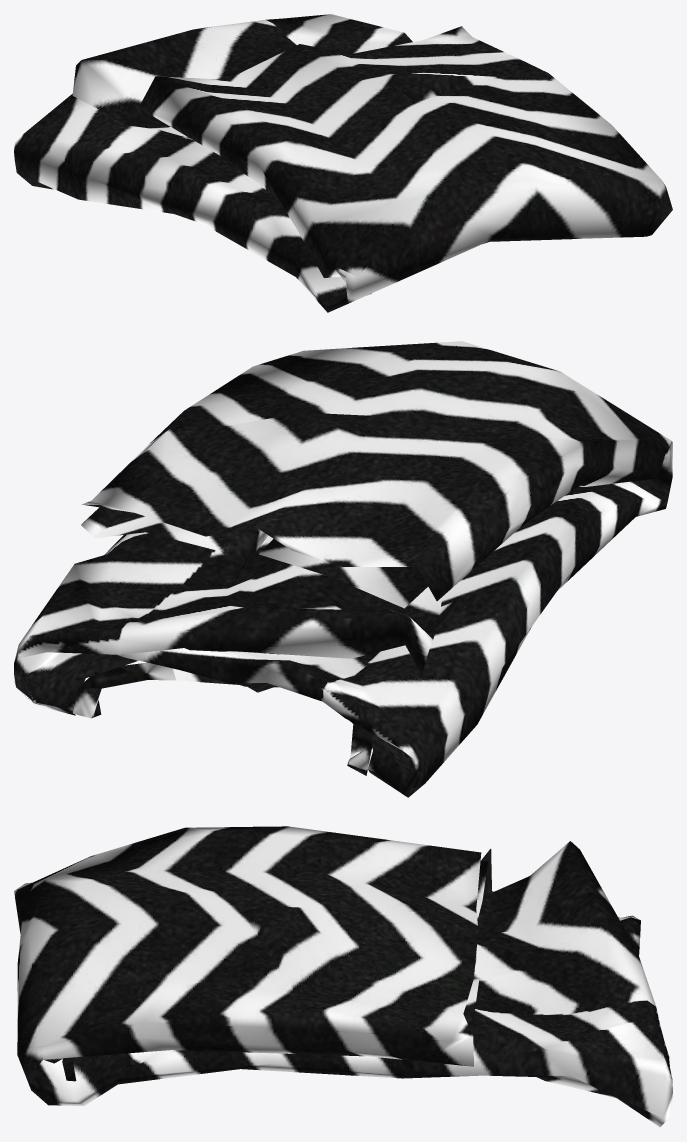
The model's file is hvfold_cloth4553.glb.
The picture shows the model from 3 angles, top to bottom: view 1: azimuth 30°, elevation 25°; view 2: azimuth 150°, elevation 25°; view 3: azimuth 270°, elevation 25°; orthographic projection. The views are drawn at different scales.
Parts seen in each view (by area): view 1: BP_cloth4553; view 2: BP_cloth4553; view 3: BP_cloth4553.
Boxes of the visible parts, x1,y1,x2,y2 form: BP_cloth4553: (14, 14, 672, 312); BP_cloth4553: (14, 341, 672, 797); BP_cloth4553: (14, 826, 672, 1127).
Bounding box in the file's own units: 0.236 × 0.1014 × 0.322.
Materials: 1 (1 with a texture image).
